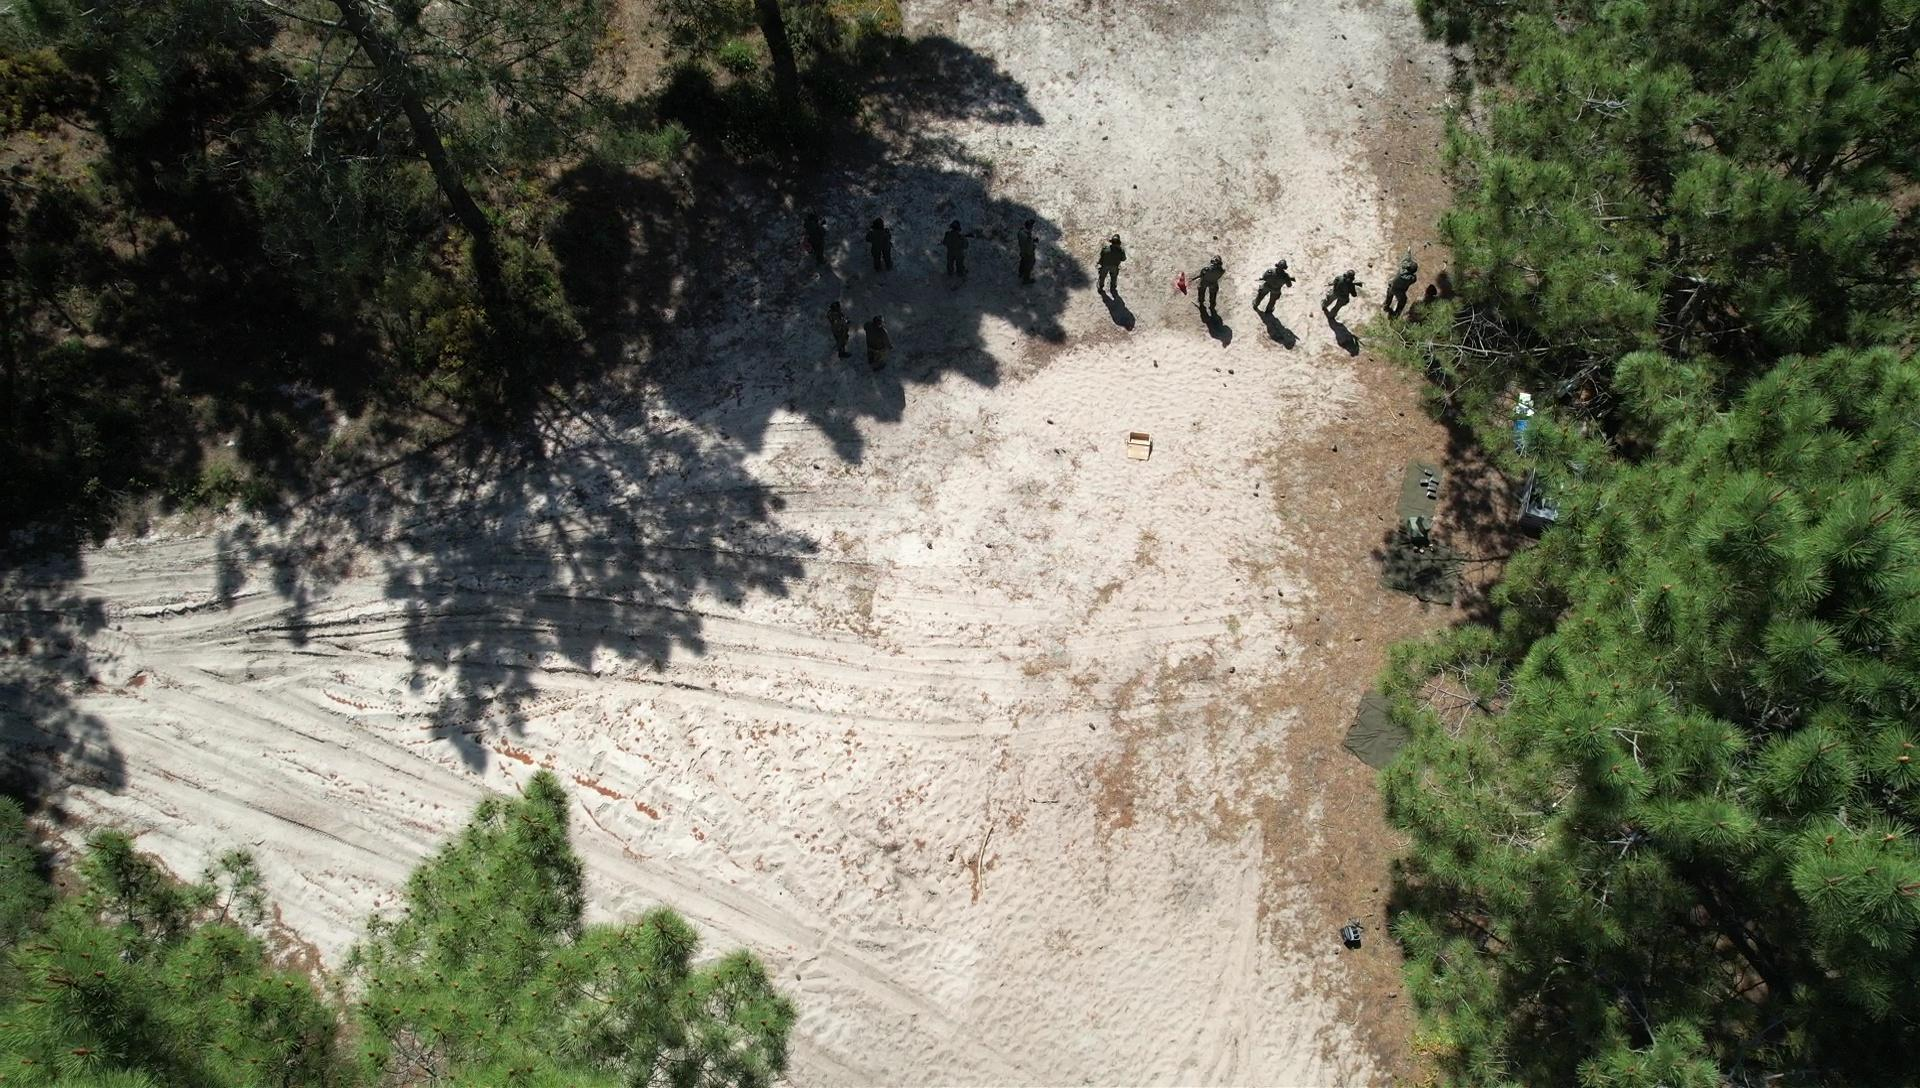Soldier: (852, 214, 909, 289), (855, 303, 906, 380), (1250, 258, 1298, 334), (938, 215, 978, 293), (793, 203, 839, 272), (1319, 258, 1362, 330), (1189, 256, 1230, 323), (1009, 222, 1044, 295), (1386, 244, 1423, 315), (811, 299, 853, 359), (1100, 227, 1133, 299)
